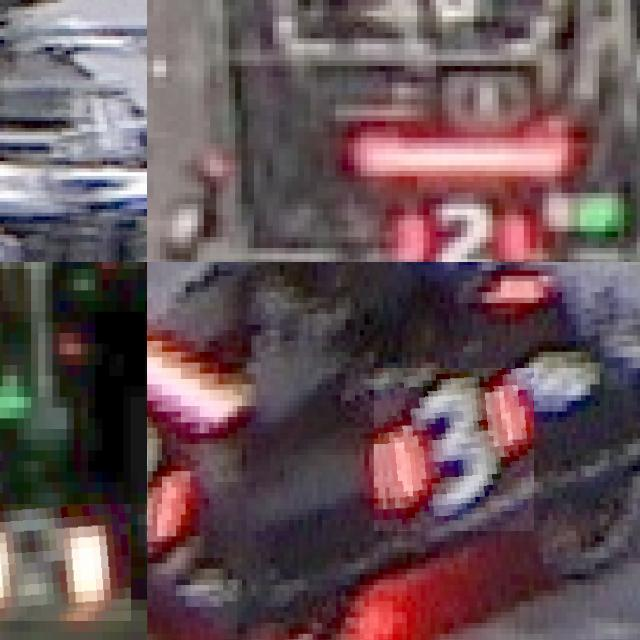R2: (373, 201, 542, 262)
R3: (374, 368, 534, 531), (147, 411, 195, 563)
Rs: (0, 503, 130, 621)
